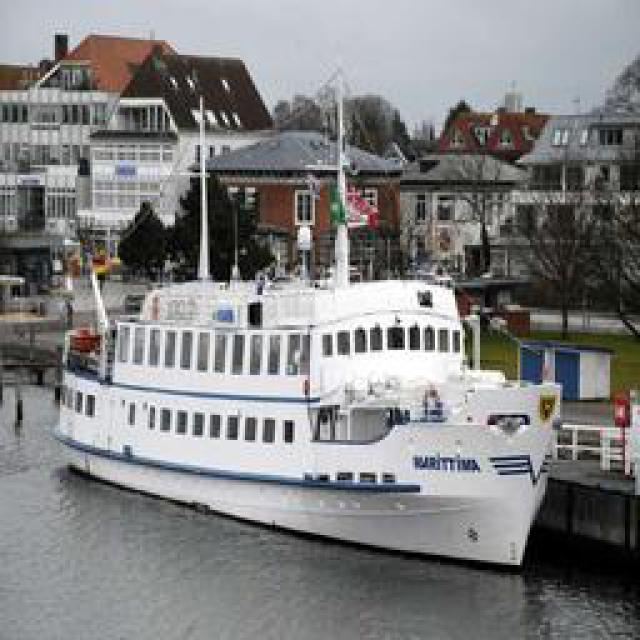Ship: (51, 200, 564, 573)
